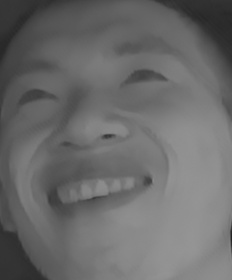eye: (115, 62, 170, 98), (12, 83, 61, 117)
mouth: (39, 157, 160, 224)
